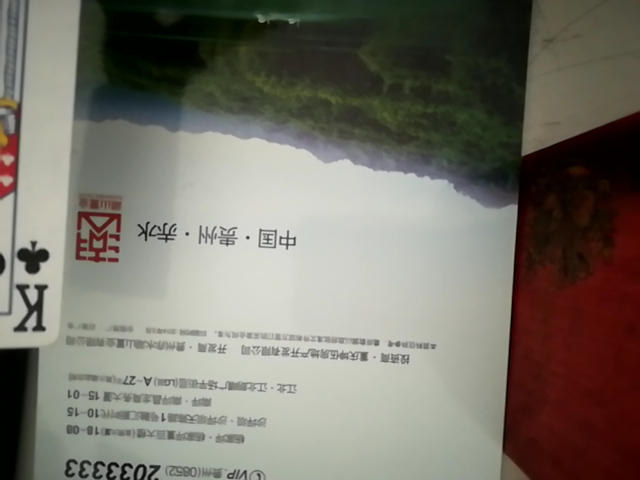mh k: (0, 0, 128, 394)
